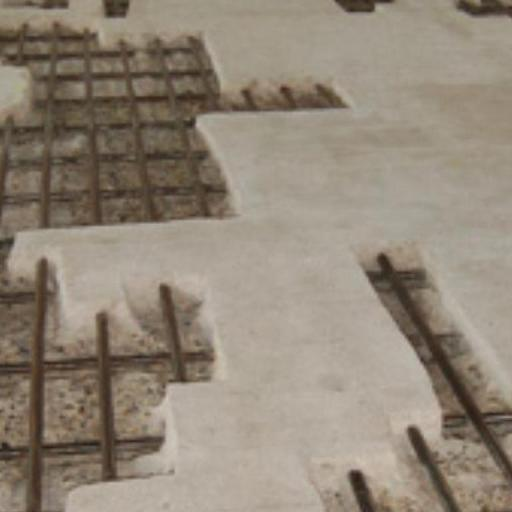spalling: (0, 21, 346, 512), (313, 242, 512, 512)
